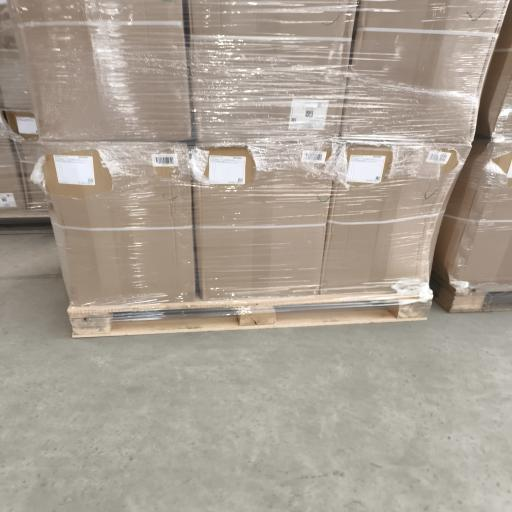pallet: (68, 293, 431, 337), (431, 273, 511, 312), (0, 208, 49, 220)
